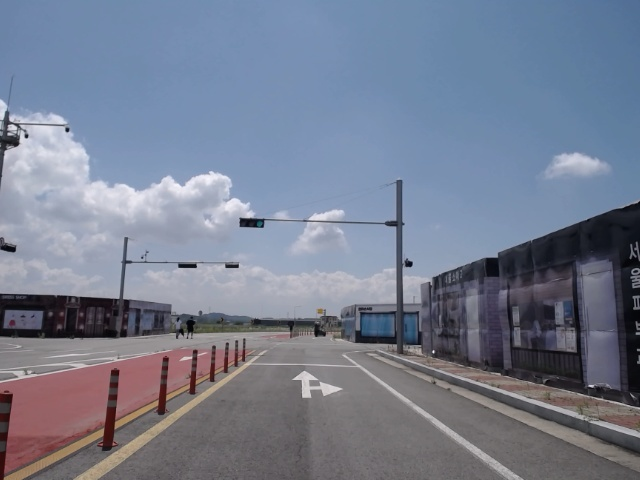green_3: (240, 218, 265, 228)
